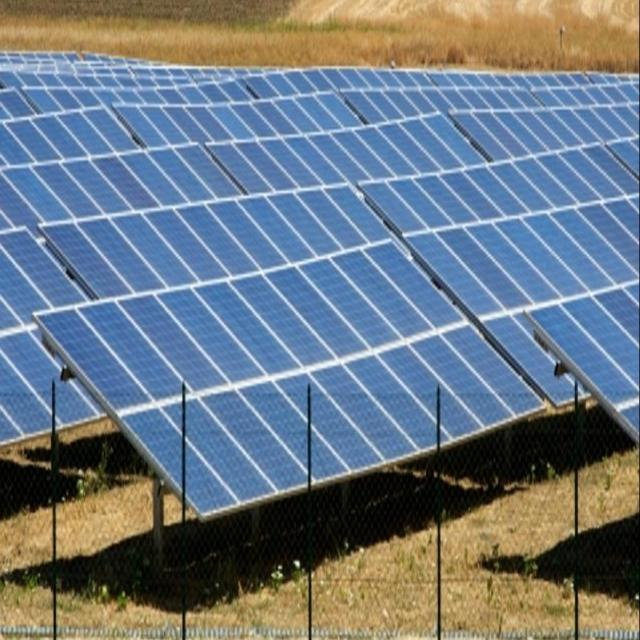clean-solar-panel: (0, 55, 640, 518)
